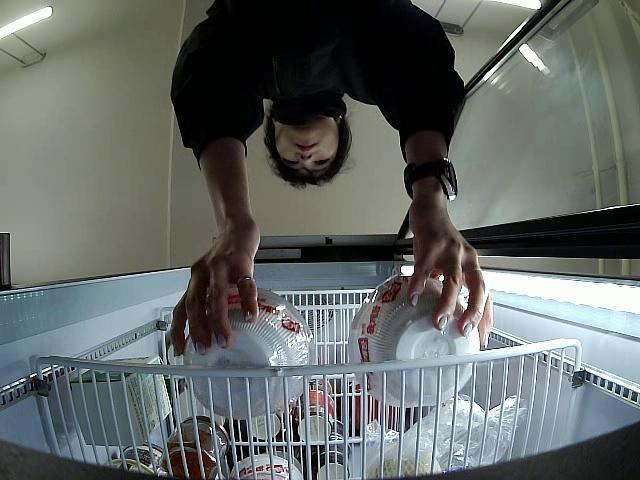09_yukGaeJang: (180, 290, 316, 417), (346, 272, 478, 401)
